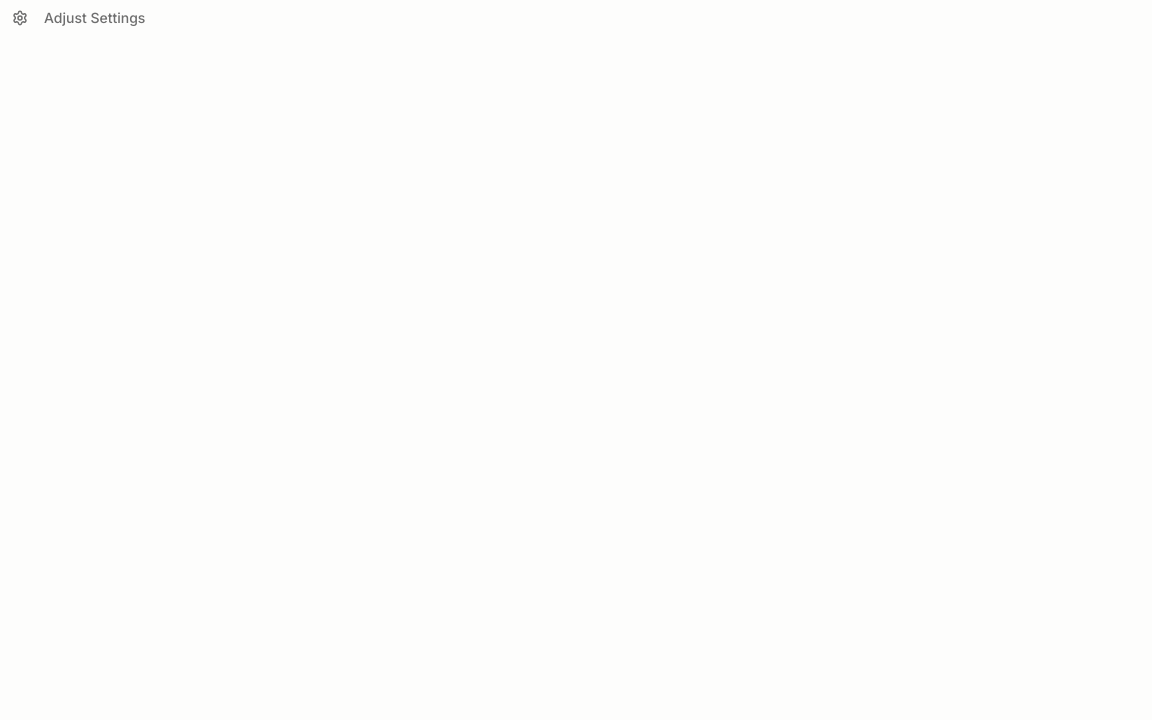
Test: FocusSettingsDialog › renders settings fields when open
Click the button "Adjust Settings" at (79, 18), box [0,0,157,36]
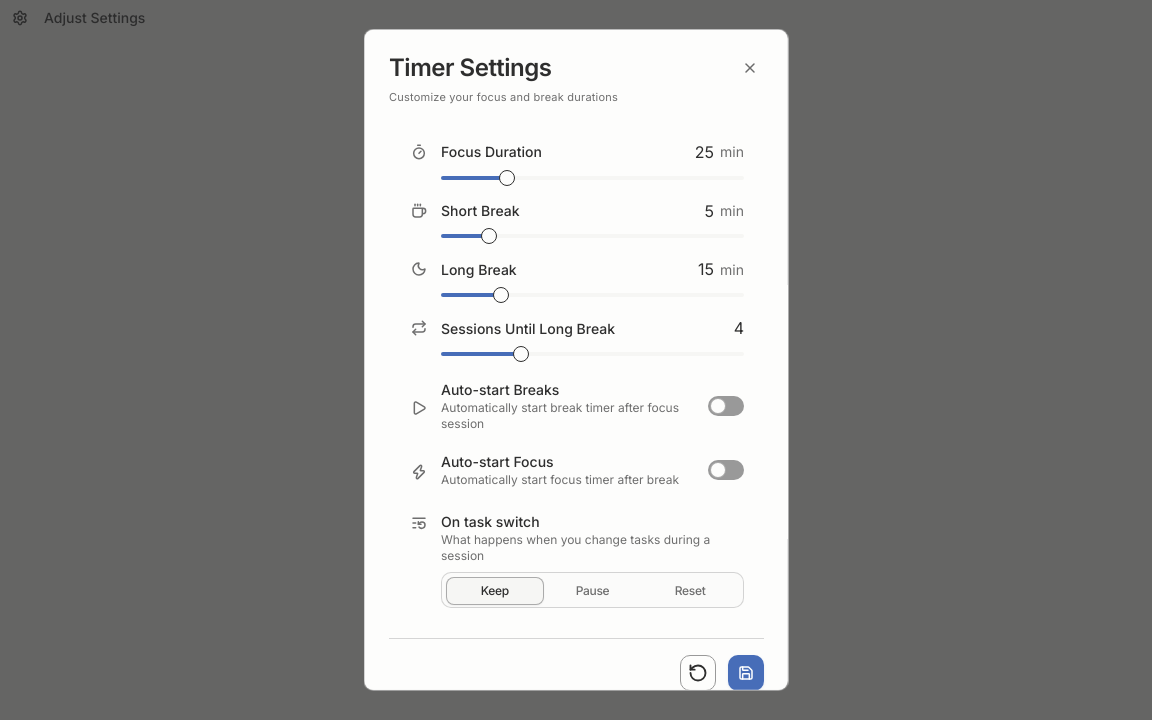
Result: the number field named "Focus Duration" is shown at [674,140,714,163]
Result: the number field named "Short Break" is shown at [674,199,714,222]
